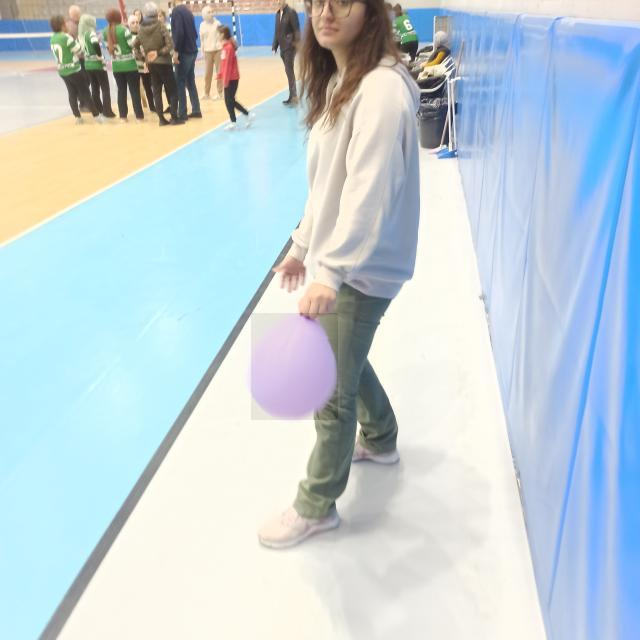balloon: (251, 313, 338, 420)
